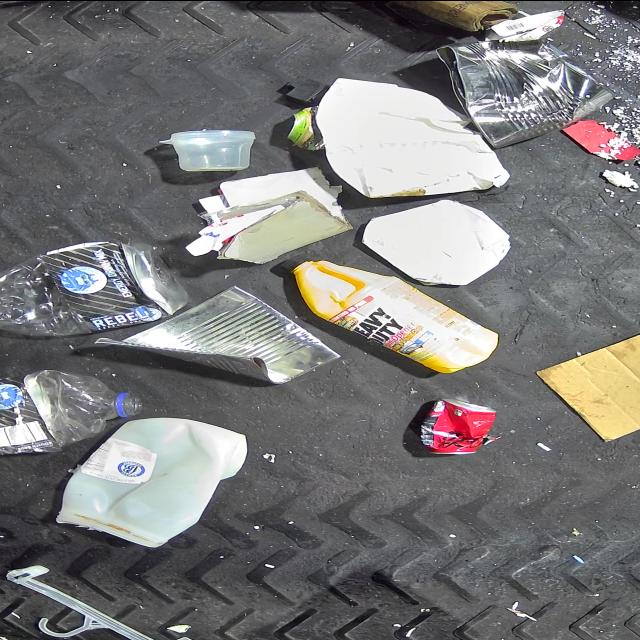can: (431, 29, 615, 143), (421, 397, 498, 454), (288, 109, 322, 149)
milk_jug: (55, 416, 247, 547)
non_white_jug: (282, 254, 503, 369)
plastic_bottle: (0, 240, 192, 336), (0, 369, 142, 455)
